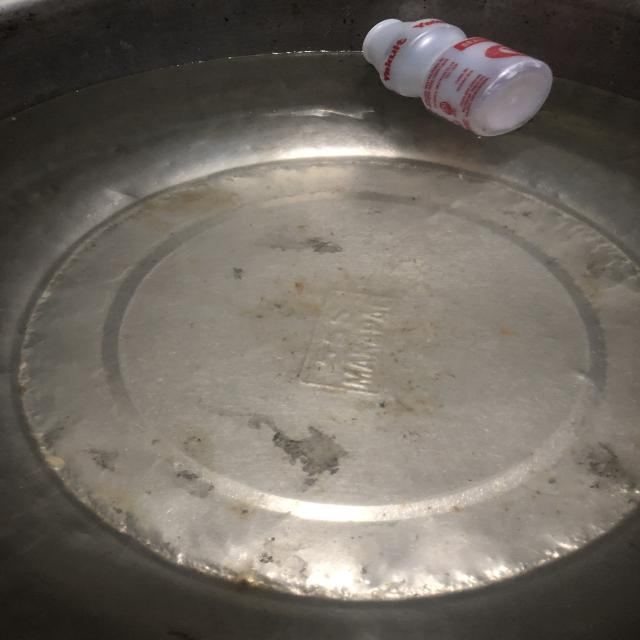Plastic Bottle: (350, 7, 570, 153)
